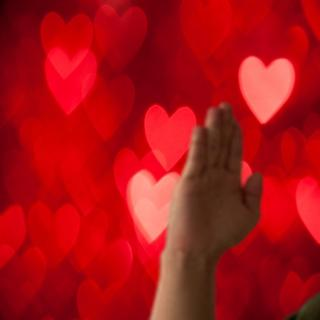RIGHT: (165, 98, 269, 274)
